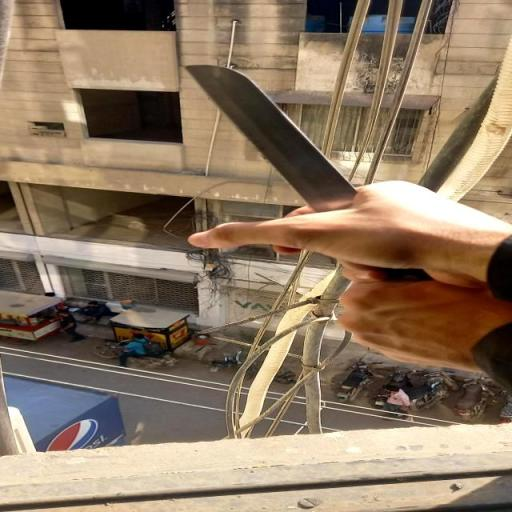knife: (181, 64, 437, 285)
